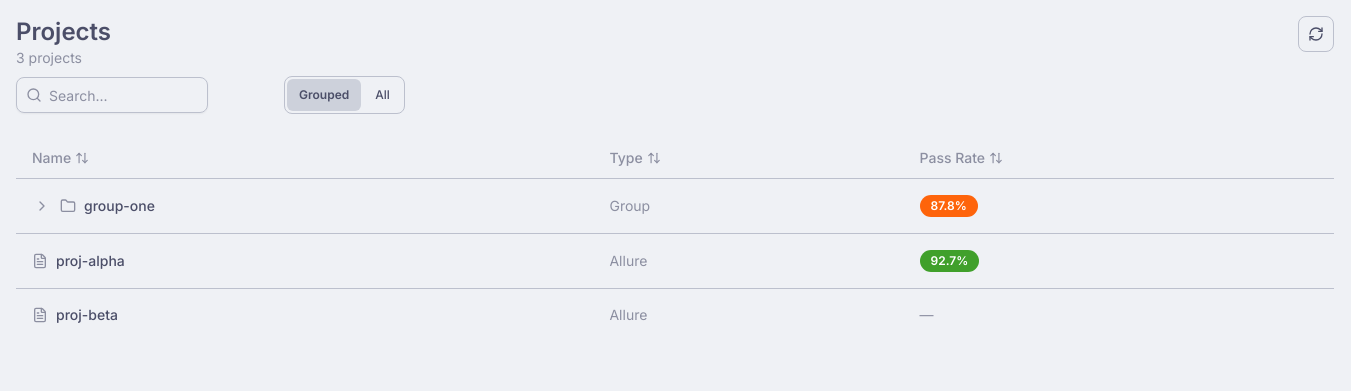
Test: DashboardPage › switches to the flat "All" view: children as rows, no groups or chevrons
Click the button "All". click: (382, 95)
box: x1=363 y1=79 x2=402 y2=111
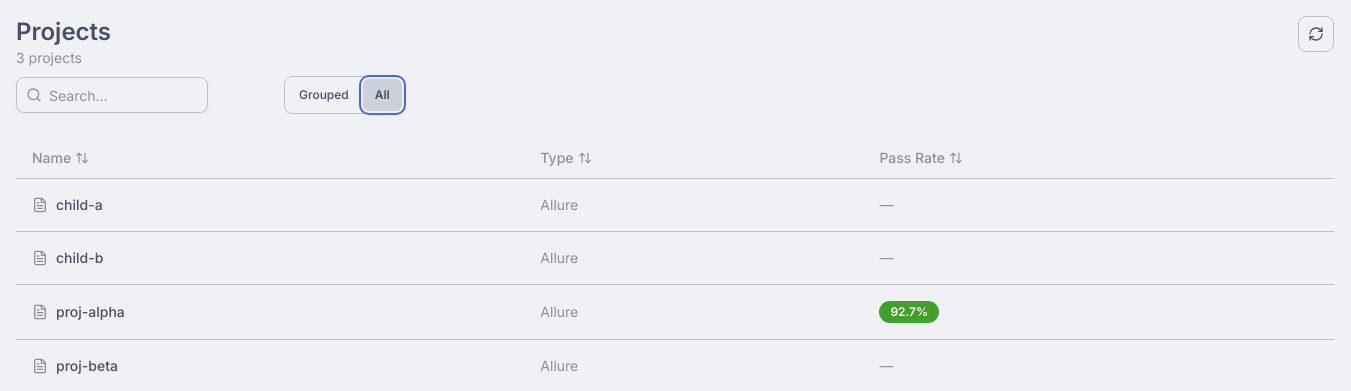
Check: the link "proj-alpha" is shown, box x1=56 y1=302 x2=125 y2=322
Check: the link "child-a" is shown, box x1=56 y1=194 x2=103 y2=214
Check: the text "group-one" is gone
